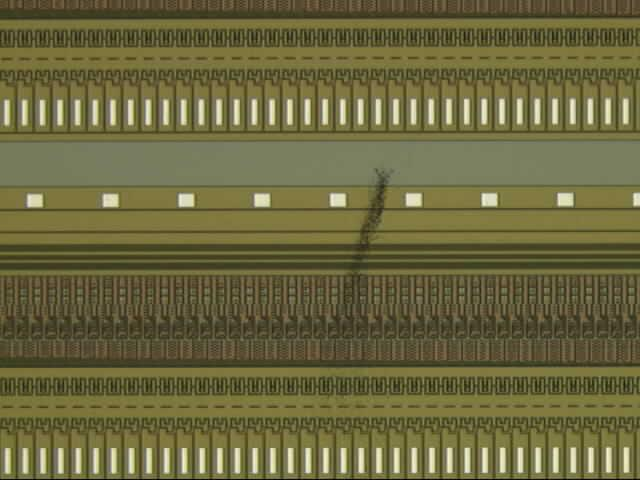PO CONTAMINATION: (311, 158, 413, 344)
